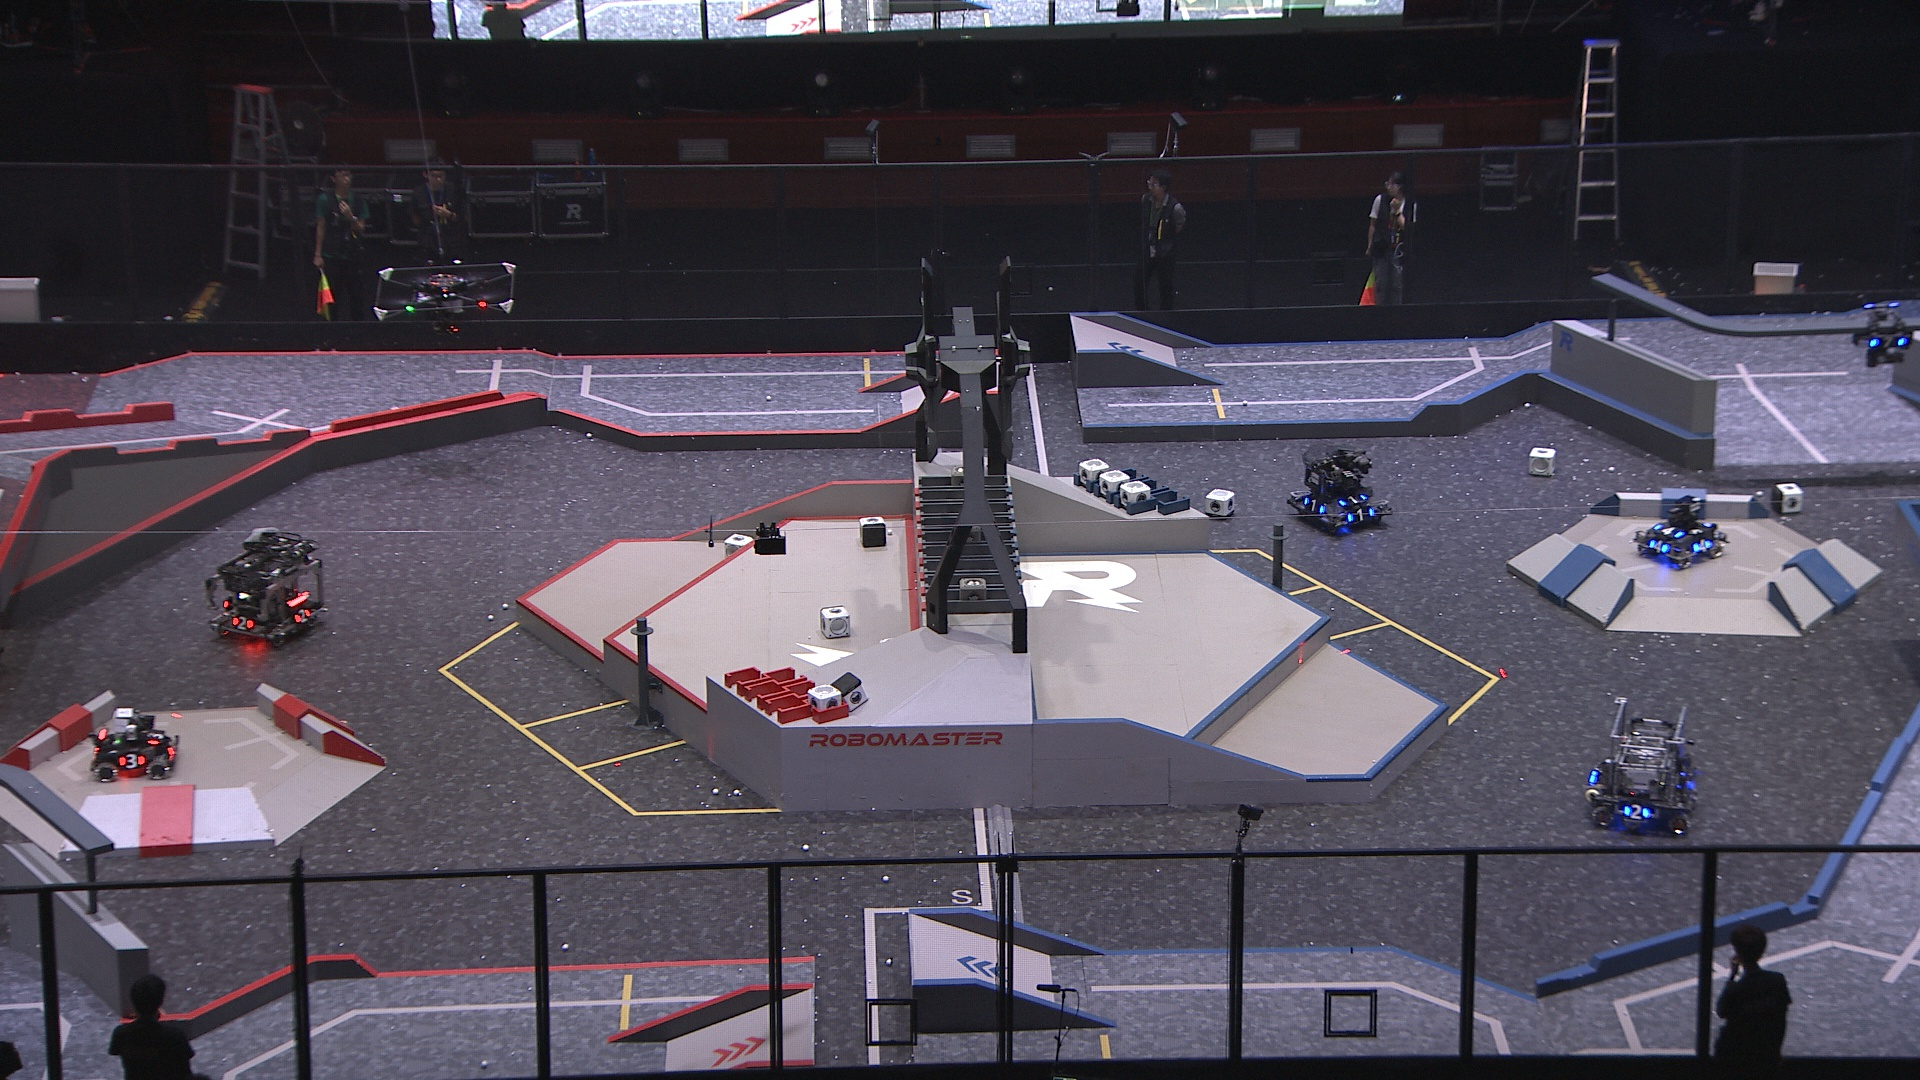armor: (1865, 332, 1907, 352), (1621, 799, 1654, 823), (1650, 520, 1681, 541), (113, 752, 146, 770), (229, 615, 257, 636), (1348, 505, 1375, 526), (1338, 489, 1371, 506), (1689, 533, 1713, 556), (1300, 493, 1325, 516), (1647, 535, 1669, 559), (291, 605, 313, 626), (144, 727, 164, 746)
car: (1581, 695, 1700, 840), (200, 524, 334, 650), (1280, 443, 1391, 533), (87, 702, 181, 785), (1633, 495, 1724, 568)
watcher: (1849, 299, 1917, 368)
